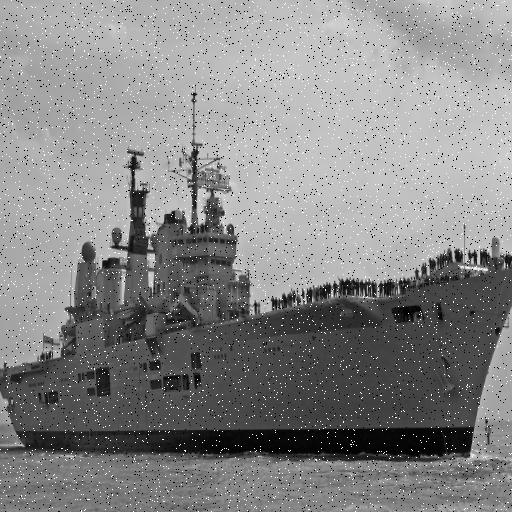Portanaves: (1, 84, 512, 467)
